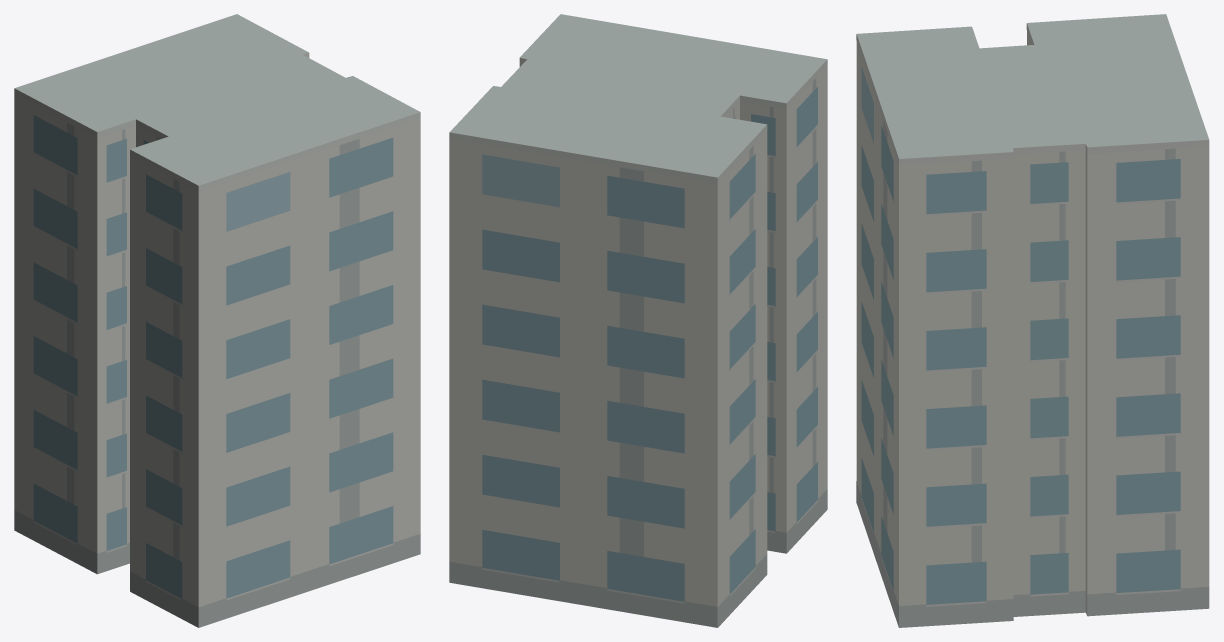
File: survey-upis-32971214.glb
3 views of the same model, side by side, from view 1: azimuth 30°, elevation 25°; view 2: azimuth 150°, elevation 25°; view 3: azimuth 270°, elevation 25° (orthographic). The views are drawn at different scales.
Parts seen in each view (by area): view 1: survey-upis-32971214.tmp; view 2: survey-upis-32971214.tmp; view 3: survey-upis-32971214.tmp.
Boxes of the visible parts, x1,y1,x2,y2 form: survey-upis-32971214.tmp: (14, 14, 420, 627); survey-upis-32971214.tmp: (449, 14, 827, 627); survey-upis-32971214.tmp: (856, 14, 1209, 627).
Bounding box in the file's own units: 11.49 × 17.3 × 11.81.
